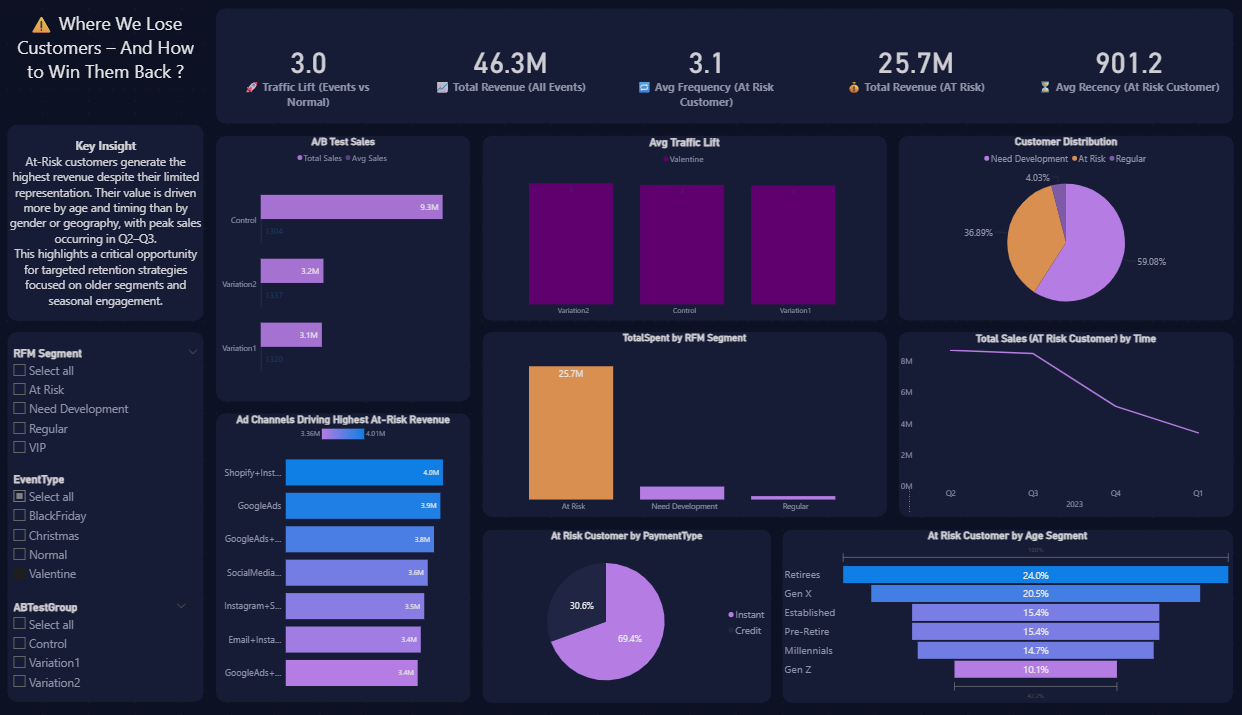

The dashboard page shown, as its layout file describes it:
{"tool":"powerbi","page":{"name":"DashBoard","canvas":[2600,1500],"ordinal":4},"visuals":[{"type":"shape","box":[24,264,408,408],"z":0},{"type":"shape","box":[24,696,408,768],"z":1000},{"type":"shape","box":[456,864,528,600],"z":2000},{"type":"shape","box":[1008,1104,600,360],"z":3000},{"type":"shape","box":[1632,1104,936,360],"z":4000},{"type":"shape","box":[1872,696,696,384],"z":5000},{"type":"shape","box":[1008,696,840,384],"z":6000},{"type":"shape","box":[1872,288,696,384],"z":7000},{"type":"shape","box":[456,288,528,552],"z":8000},{"type":"shape","box":[456,24,2112,240],"z":9000},{"type":"card","fields":{"Values":["Measure Table (2).TrafficEventToNormal"]},"box":[456,24,384,240],"z":10000},{"type":"card","fields":{"Values":["Measure Table.Total Sales (Events)"]},"box":[864,24,408,240],"z":11000},{"type":"card","fields":{"Values":["Measure Table.Avg Frequency (At Risk Customer)"]},"box":[1272,24,408,240],"z":12000},{"type":"card","fields":{"Values":["Measure Table.Avg Recency (At Risk Customer)"]},"box":[2136,24,432,240],"z":13000},{"type":"card","fields":{"Values":["Measure Table.Sum Sales (AT Risk Customer)"]},"box":[1680,24,456,240],"z":14000},{"type":"clusteredBarChart","title":"A/B Test Sales","fields":{"Category":["transactions.ABTestGroup"],"Y":["Sum(transactions.SaleAmountEUR)","Avg(transactions.SaleAmountEUR)"]},"box":[456,288,528,552],"z":15000},{"type":"pieChart","title":"Customer Distribution","fields":{"Category":["arpand_ecommerce_dataset.RFM Category"],"Y":["CountNonNull(arpand_ecommerce_dataset.RFM Category)"]},"box":[1872,288,696,384],"z":16000},{"type":"lineClusteredColumnComboChart","title":"TotalSpent by RFM Segment","fields":{"Category":["arpand_ecommerce_dataset.RFM Category"],"Y":["Sum(arpand_ecommerce_dataset.CleanTotalSpent)"]},"box":[1008,696,840,384],"z":17000},{"type":"lineChart","title":"Total Sales (AT Risk Customer) by Time","fields":{"Y":["Measure Table.Sum Sales (AT Risk Customer)"],"Category":["Date Table.Year Hierarchy.Year","Date Table.Year Hierarchy.Quarter","Date Table.Year Hierarchy.Month","Date Table.Year Hierarchy.Day"]},"box":[1872,696,696,384],"z":18000},{"type":"funnel","title":"At Risk Customer by Age Segment","fields":{"Category":["arpand_ecommerce_dataset.Age_Segment"],"Y":["Divide(Measure Table.At Risk Customer, ScopedEval(Measure Table.At Risk Customer, []))"]},"box":[1632,1104,936,360],"z":19000},{"type":"pieChart","fields":{"Category":["arpand_ecommerce_dataset.PaymentType"],"Y":["Measure Table.At Risk Customer"]},"box":[1008,1104,600,360],"z":20000},{"type":"clusteredBarChart","title":"Ad Channels Driving Highest At-Risk Revenue","fields":{"Category":["branches.CurrentAdStrategy"],"Y":["Measure Table.Sum Sales (AT Risk Customer)"]},"box":[456,864,528,600],"z":21000},{"type":"shape","box":[1008,288,840,384],"z":22000},{"type":"clusteredColumnChart","title":"Avg Traffic Lift","fields":{"Category":["transactions.ABTestGroup"],"Y":["Avg(transactions.TrafficMultiplier)"],"Series":["transactions.EventType"]},"box":[1008,288,840,384],"z":23000},{"type":"slicer","fields":{"Values":["arpand_ecommerce_dataset.RFM Segment"]},"box":[24,720,408,264],"z":24000},{"type":"slicer","fields":{"Values":["transactions.ABTestGroup"]},"box":[24,1248,384,216],"z":25000},{"type":"slicer","fields":{"Values":["transactions.EventType"]},"box":[24,984,384,240],"z":26000},{"type":"textbox","box":[24,288,408,384],"z":27000},{"type":"textbox","box":[24,24,408,216],"z":28000}]}

Visuals, with their boxes in screenshot pixels (x1, y1, x2, y2), scaled from the page's 2600x1500 canvas onto the 1242x715 screenshot:
shape: (11, 126, 206, 320)
shape: (11, 332, 206, 698)
shape: (218, 412, 470, 698)
shape: (482, 526, 768, 698)
shape: (780, 526, 1227, 698)
shape: (894, 332, 1227, 515)
shape: (482, 332, 883, 515)
shape: (894, 137, 1227, 320)
shape: (218, 137, 470, 400)
shape: (218, 11, 1227, 126)
card - Measure Table (2).TrafficEventToNormal: (218, 11, 401, 126)
card - Measure Table.Total Sales (Events): (413, 11, 608, 126)
card - Measure Table.Avg Frequency (At Risk Customer): (608, 11, 803, 126)
card - Measure Table.Avg Recency (At Risk Customer): (1020, 11, 1227, 126)
card - Measure Table.Sum Sales (AT Risk Customer): (803, 11, 1020, 126)
"A/B Test Sales" clusteredBarChart: (218, 137, 470, 400)
"Customer Distribution" pieChart: (894, 137, 1227, 320)
"TotalSpent by RFM Segment" lineClusteredColumnComboChart: (482, 332, 883, 515)
"Total Sales (AT Risk Customer) by Time" lineChart: (894, 332, 1227, 515)
"At Risk Customer by Age Segment" funnel: (780, 526, 1227, 698)
pieChart - arpand_ecommerce_dataset.PaymentType x Measure Table.At Risk Customer: (482, 526, 768, 698)
"Ad Channels Driving Highest At-Risk Revenue" clusteredBarChart: (218, 412, 470, 698)
shape: (482, 137, 883, 320)
"Avg Traffic Lift" clusteredColumnChart: (482, 137, 883, 320)
slicer - arpand_ecommerce_dataset.RFM Segment: (11, 343, 206, 469)
slicer - transactions.ABTestGroup: (11, 595, 195, 698)
slicer - transactions.EventType: (11, 469, 195, 583)
textbox: (11, 137, 206, 320)
textbox: (11, 11, 206, 114)
